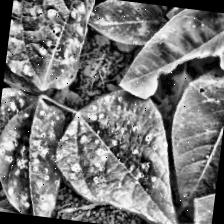Bean Rust: (54, 84, 188, 224), (0, 88, 73, 218), (3, 0, 94, 88), (84, 0, 161, 48)
